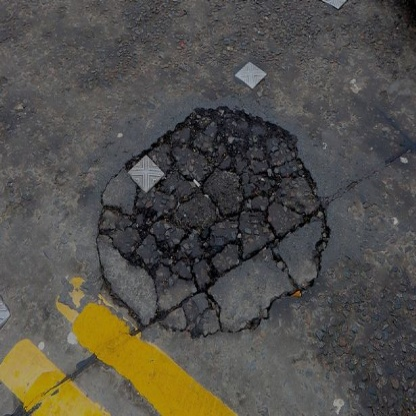pothole: (66, 86, 338, 347)
